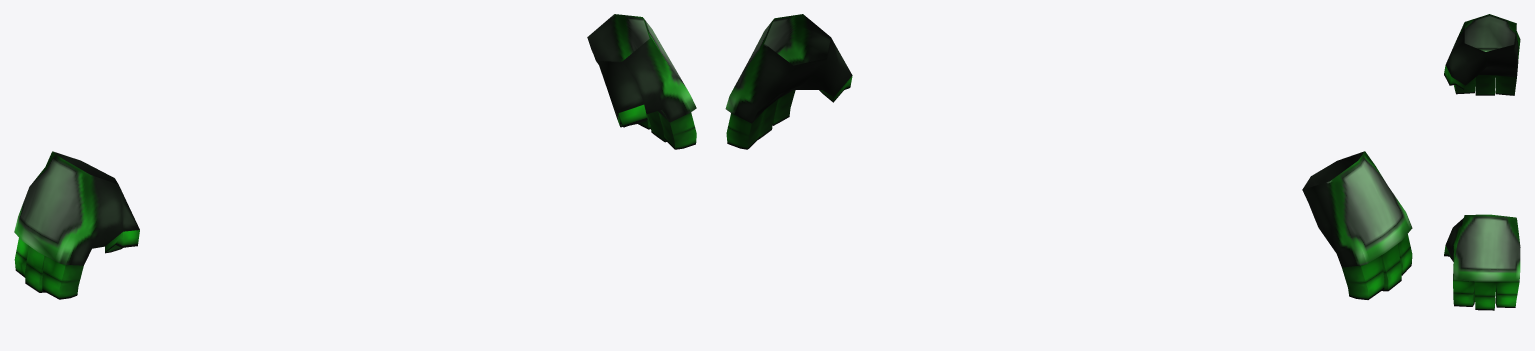
The model's file is hum_wanderer_07_1241ea1d.glb.
3 renders of one model, left to right at view 1: azimuth 30°, elevation 25°; view 2: azimuth 150°, elevation 25°; view 3: azimuth 270°, elevation 25°, orthographic. The views are drawn at different scales.
Bounding box in the file's own units: 1.7 × 0.3987 × 0.2537.
1 material, 1 textured.
